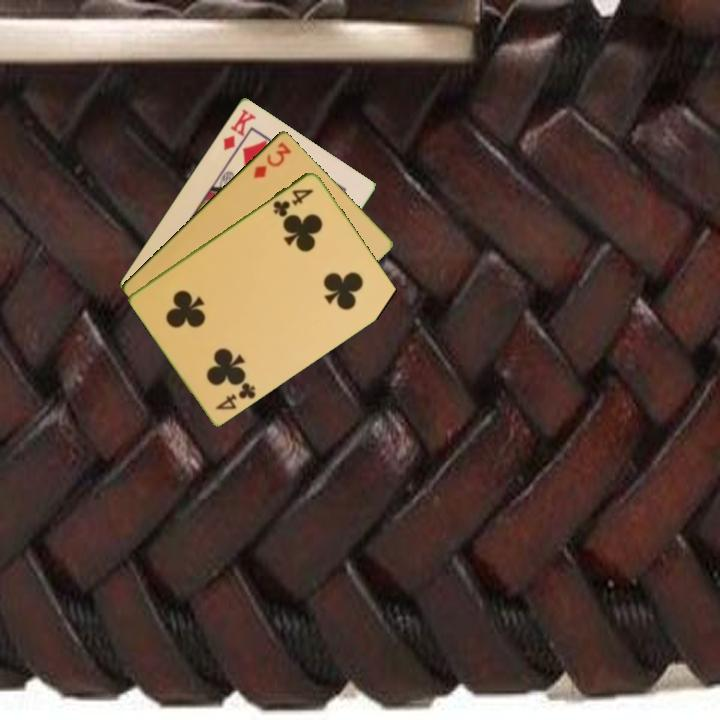3d: (250, 138, 294, 181)
4c: (269, 185, 316, 219), (212, 378, 259, 412)
Kd: (219, 105, 259, 153)
